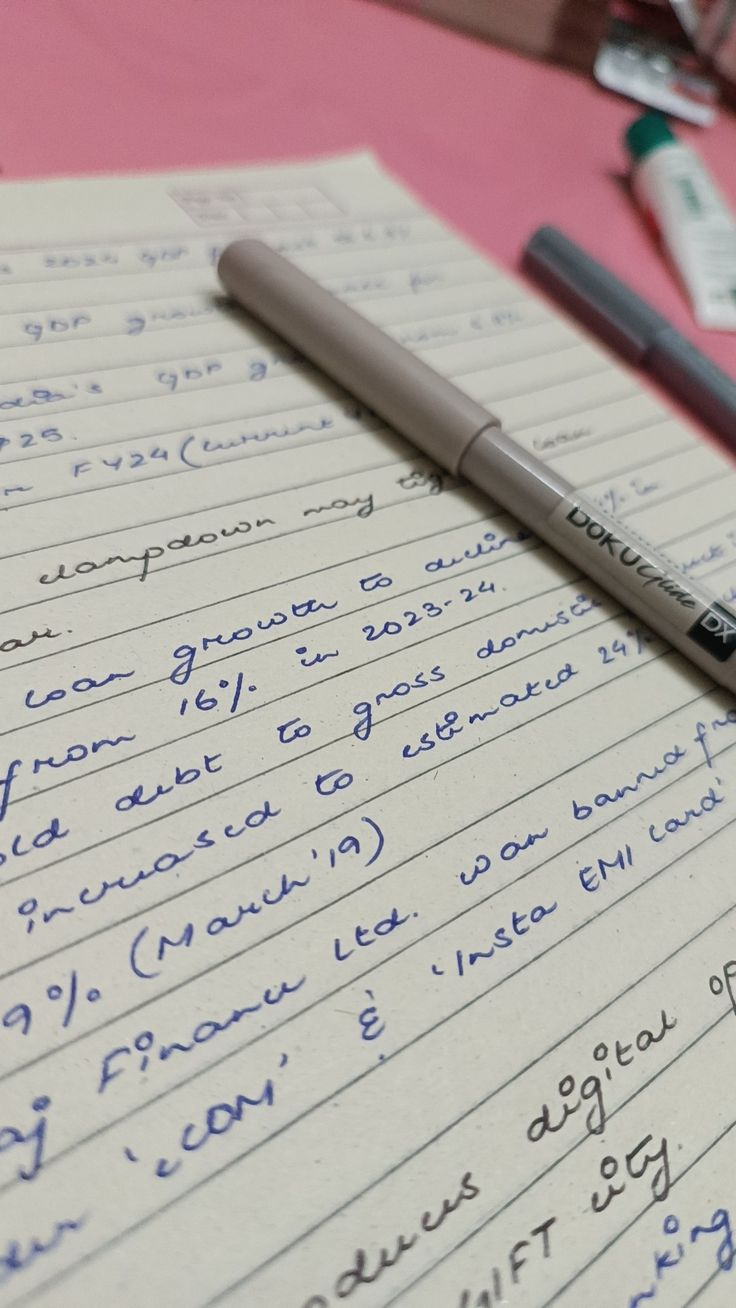not a gesture sign: (213, 218, 736, 804)
